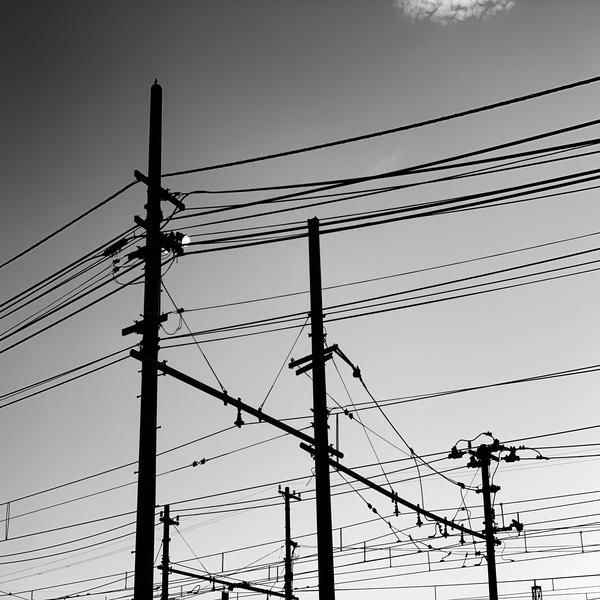utility_pole: (97, 65, 204, 403), (281, 209, 362, 491), (435, 425, 550, 559)
